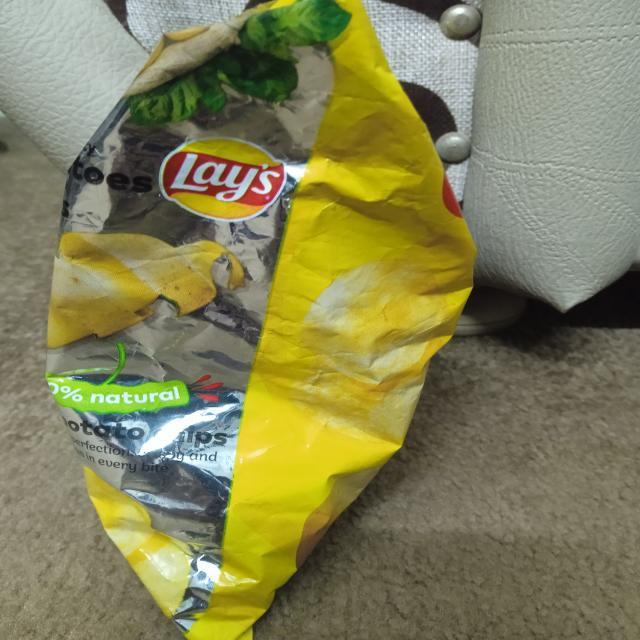Plastic: (33, 3, 511, 640)
